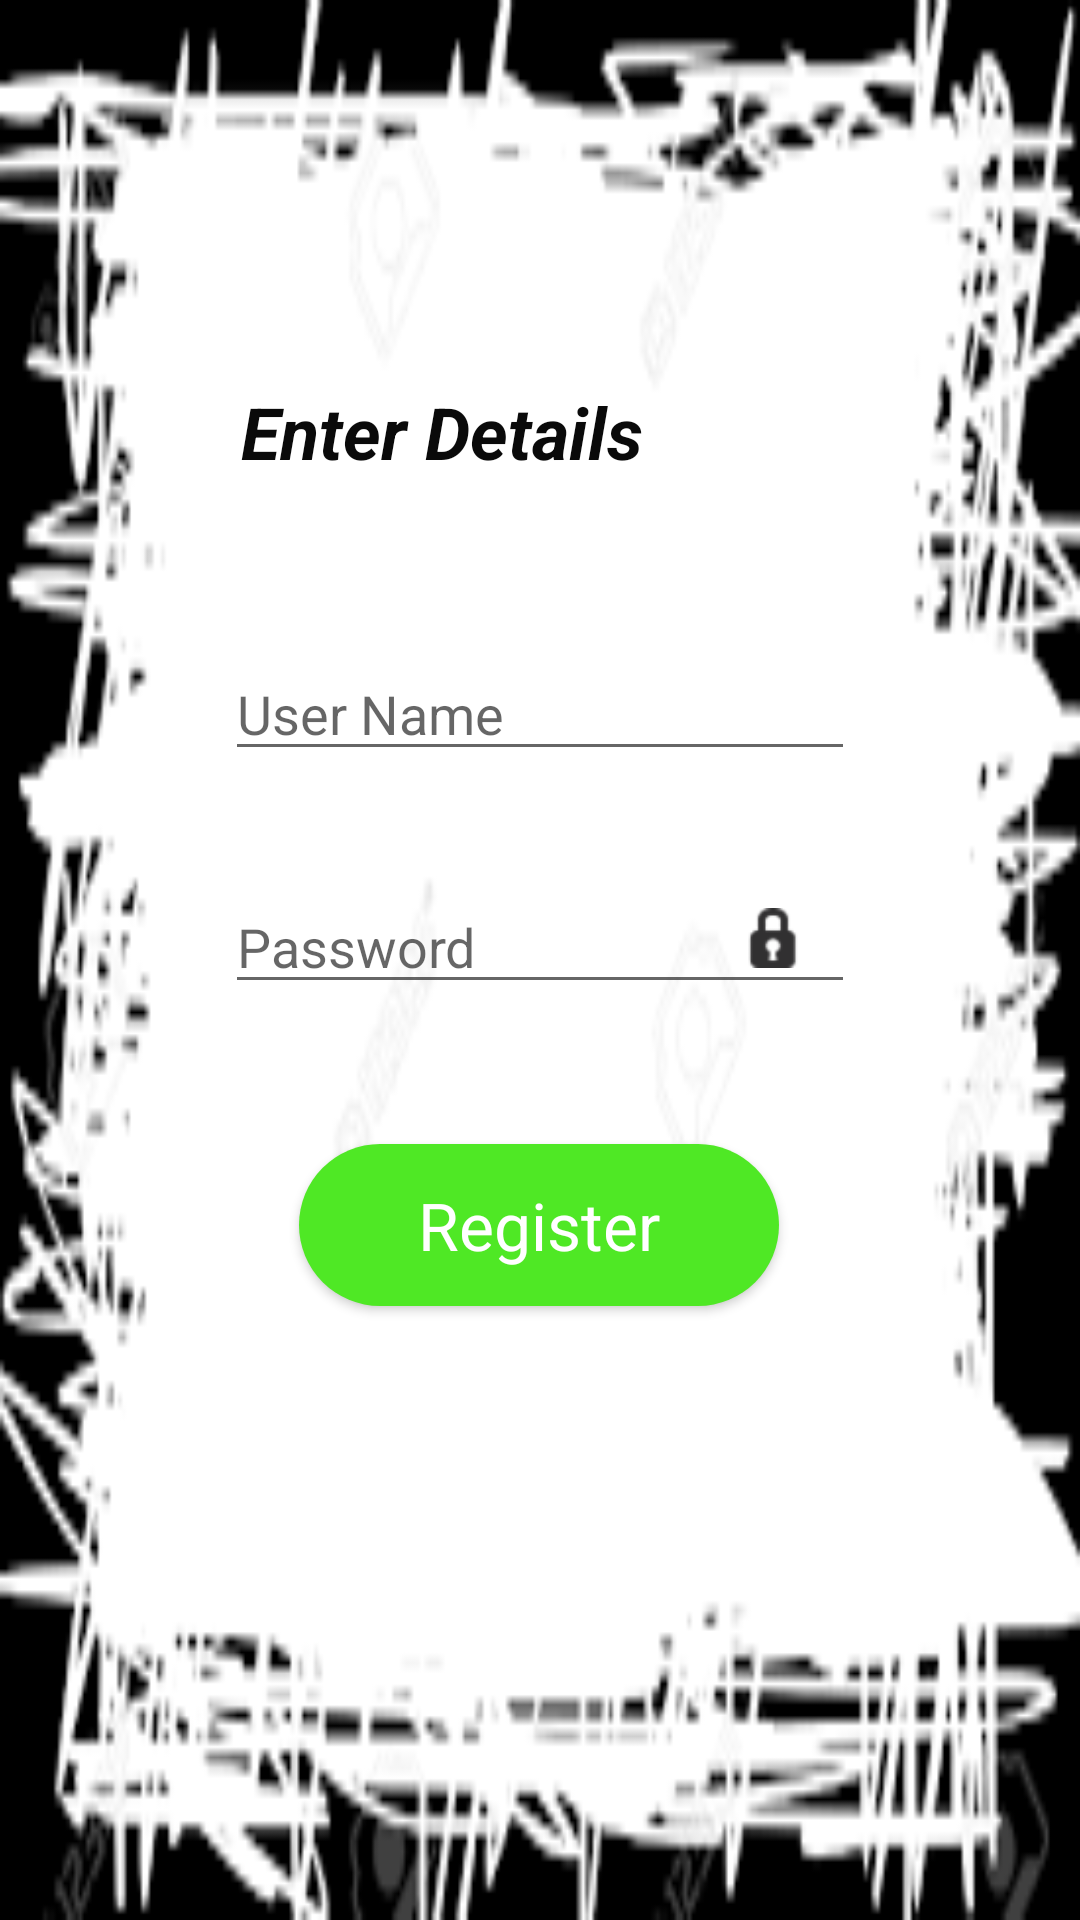

Screen size 1080x1920. Icon name, then its box in pixels as (x1, y1, x2, y2):
secure: (749, 908, 796, 968)
